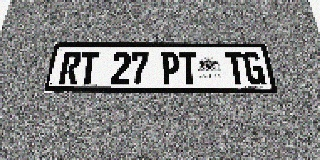2: (111, 52, 131, 85)
7: (130, 52, 149, 85)
G: (242, 52, 266, 85)
P: (161, 52, 180, 85)
R: (58, 51, 82, 85)
T: (78, 51, 100, 85), (225, 52, 247, 85), (179, 52, 199, 85)
